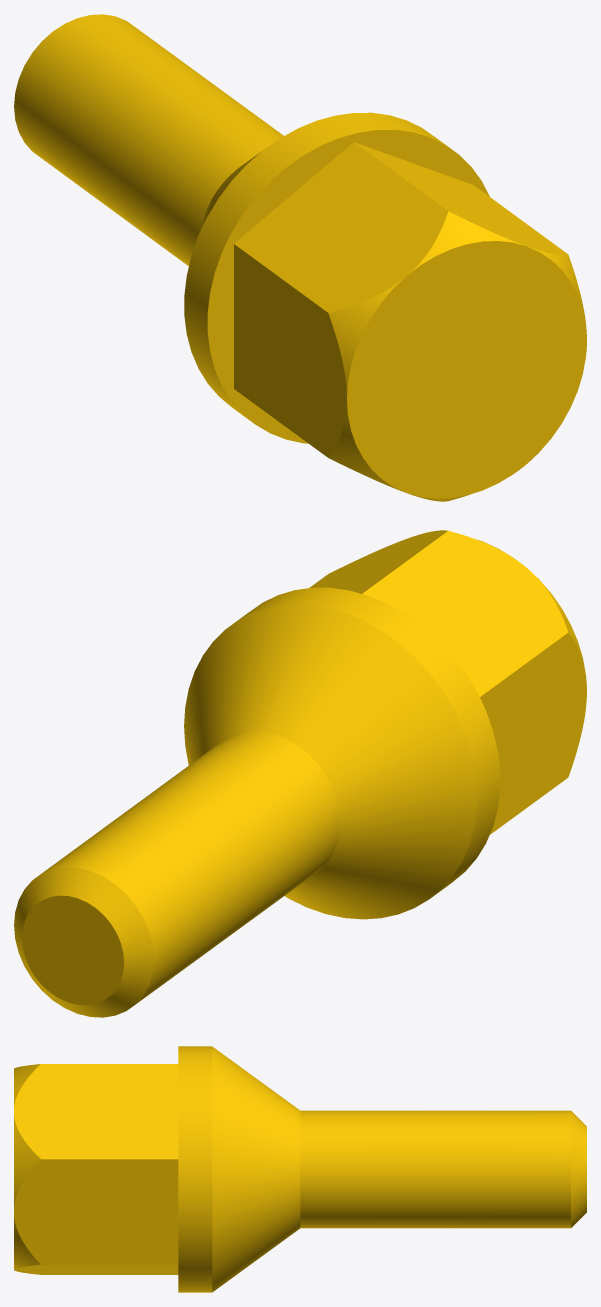
3 renders of one model, top to bottom at view 1: azimuth 30°, elevation 25°; view 2: azimuth 150°, elevation 25°; view 3: azimuth 270°, elevation 25°, orthographic. The views are drawn at different scales.
Size of the model in its own units: 0.0232 by 0.0232 by 0.054.
